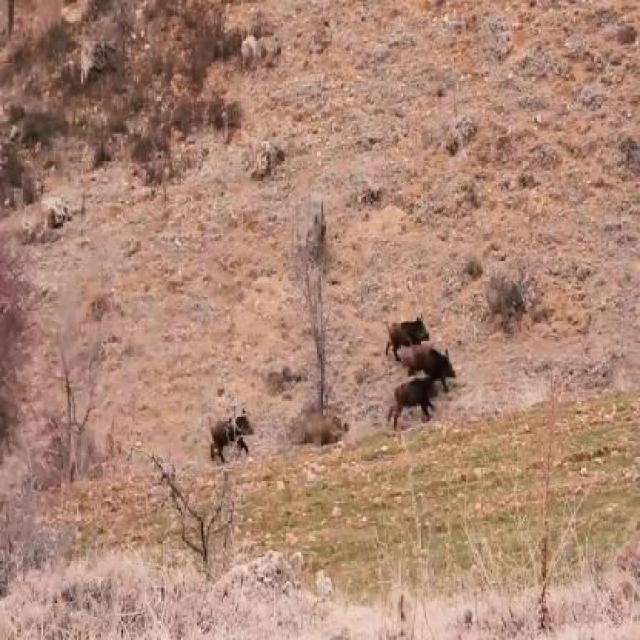pig: (192, 388, 264, 465), (389, 376, 448, 442), (384, 308, 436, 367), (408, 342, 468, 386)
